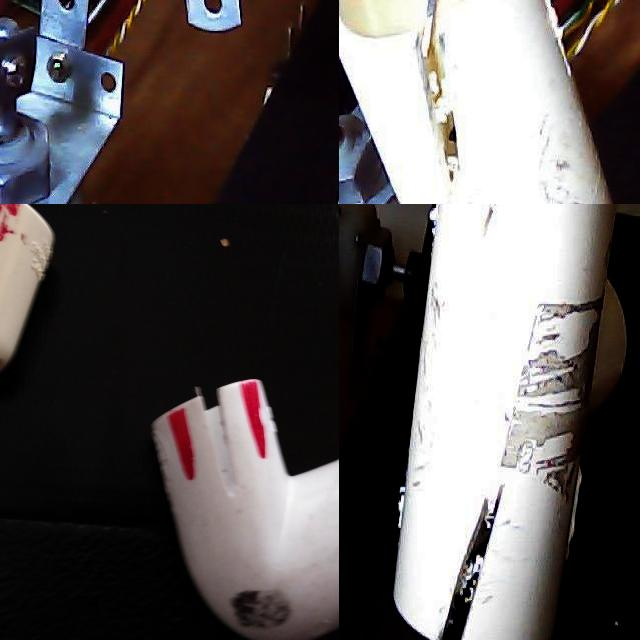Defective: (504, 204, 589, 563), (425, 450, 511, 640), (421, 0, 481, 202), (485, 204, 573, 245), (0, 580, 69, 630), (0, 497, 47, 541), (157, 246, 202, 291)
L Joint: (60, 204, 212, 340), (0, 465, 64, 640)
T Joint: (391, 204, 627, 640), (392, 204, 625, 640), (339, 0, 613, 204)
